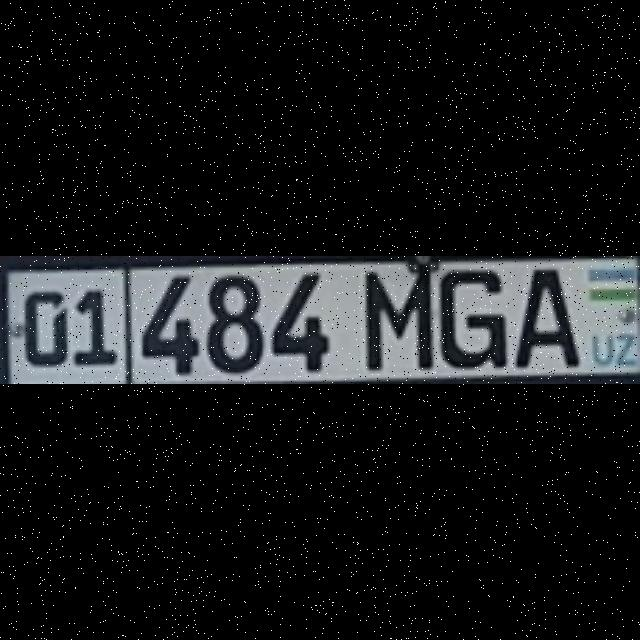0: (20, 286, 64, 362)
1: (70, 286, 112, 359)
4: (268, 270, 328, 370), (137, 273, 196, 371)
8: (204, 273, 260, 371)
A: (512, 264, 578, 366)
G: (436, 267, 504, 365)
M: (360, 266, 428, 368)
